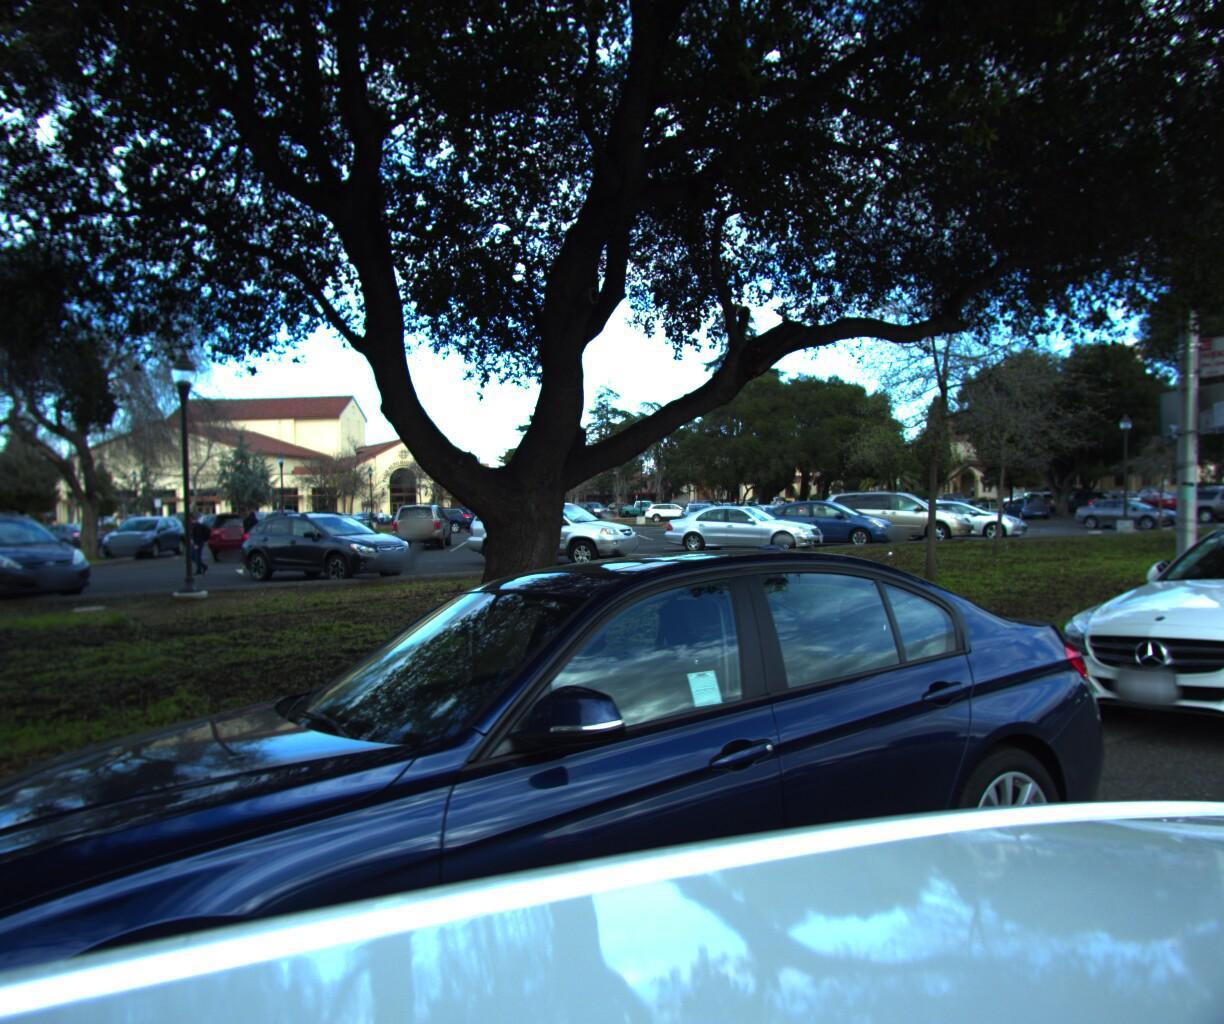car: (0, 524, 1210, 1024), (1026, 499, 1224, 798)
